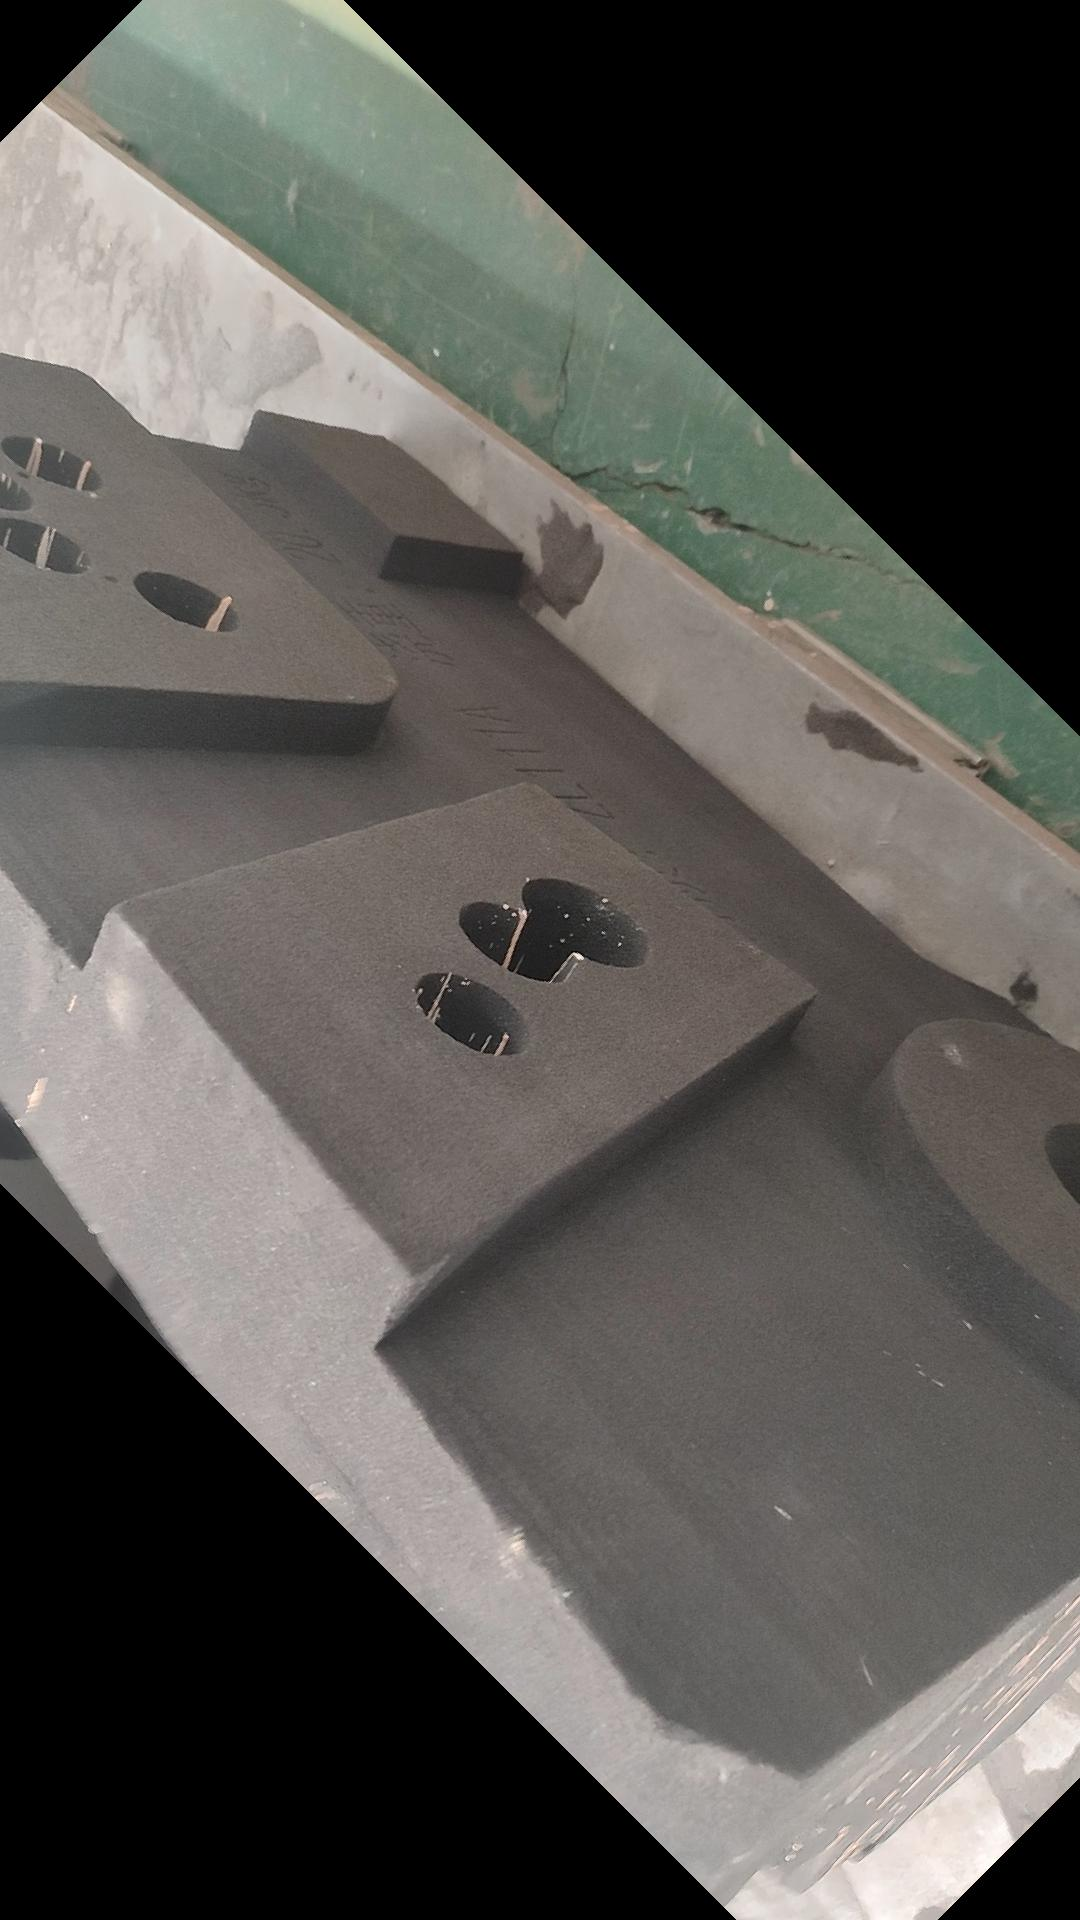pouring hole: (1044, 1113, 1080, 1199)
